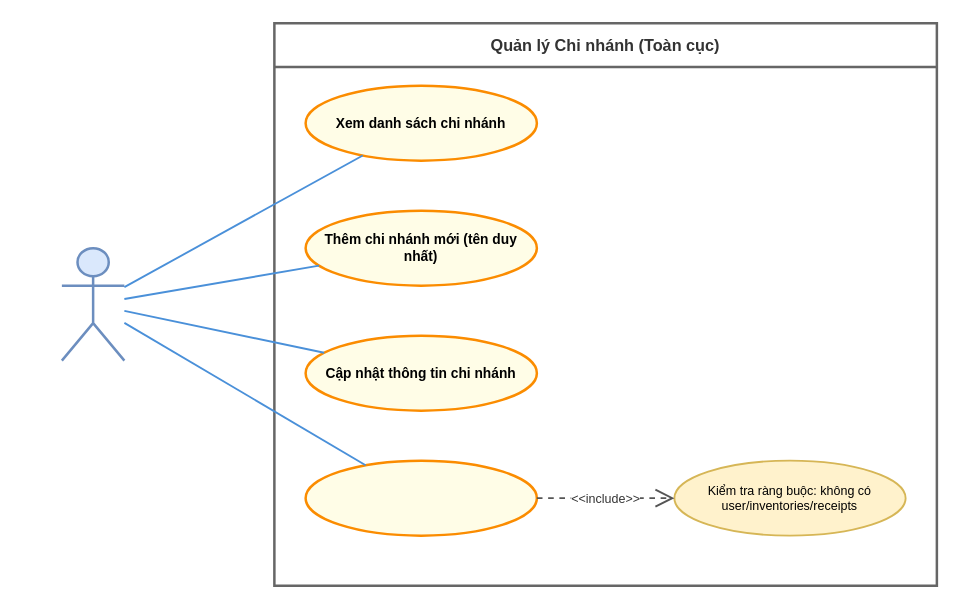
This 959x608 diagram has some shape labels left out. Here are the shapes that lost their labels. From the top down, the centre of each, then its label:
At [92,303]: "Quản trị viên (ADMIN)".
At [421,497]: "Xóa chi nhánh (nếu không có ràng buộc)".
